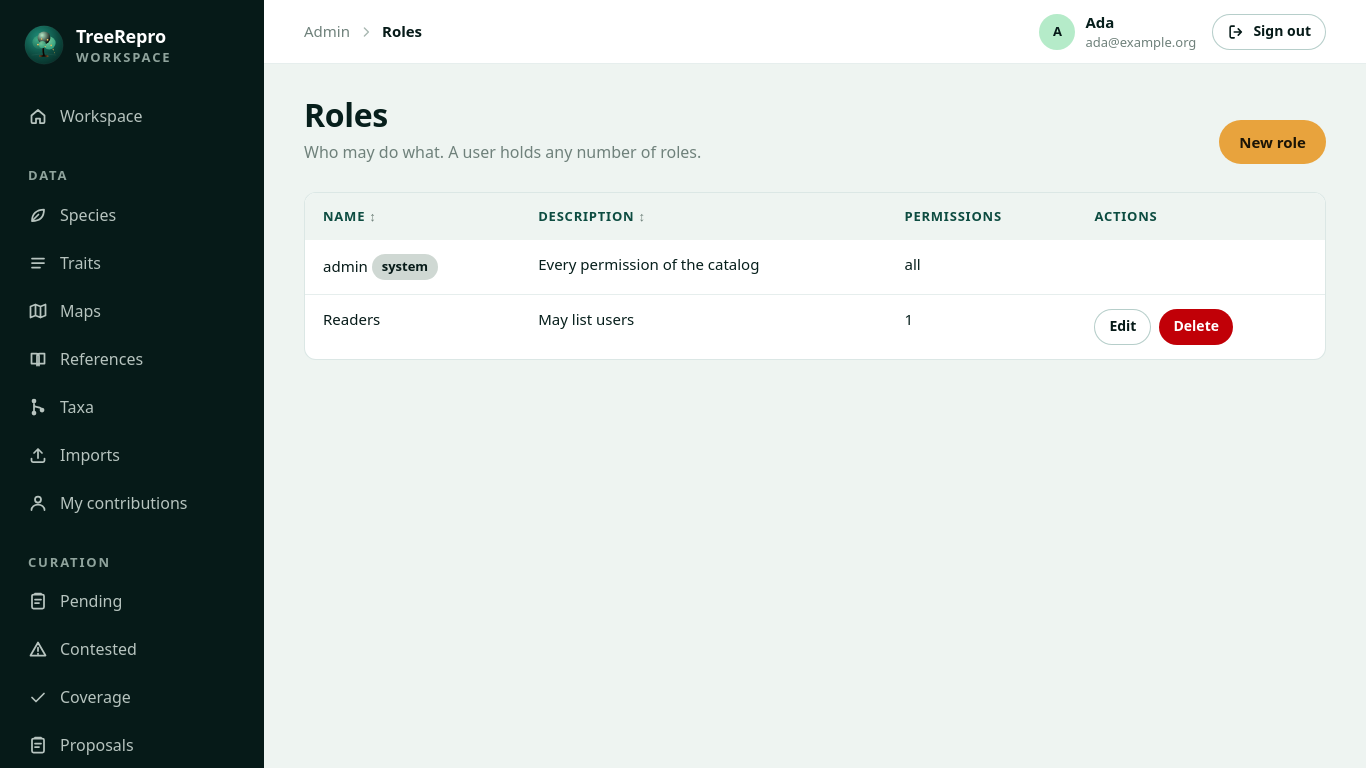
Test: RFC-13 R2, RFC-50 R10 RolesPage › RFC-31 R5 deletes after confirming; ROLE_IS_SYSTEM is mapped
expect the heading "Roles" is shown: met, box 304,93 -> 388,136
Click the button with aria-label "Delete Readers" at (1196, 327), box 1160,309 -> 1233,345
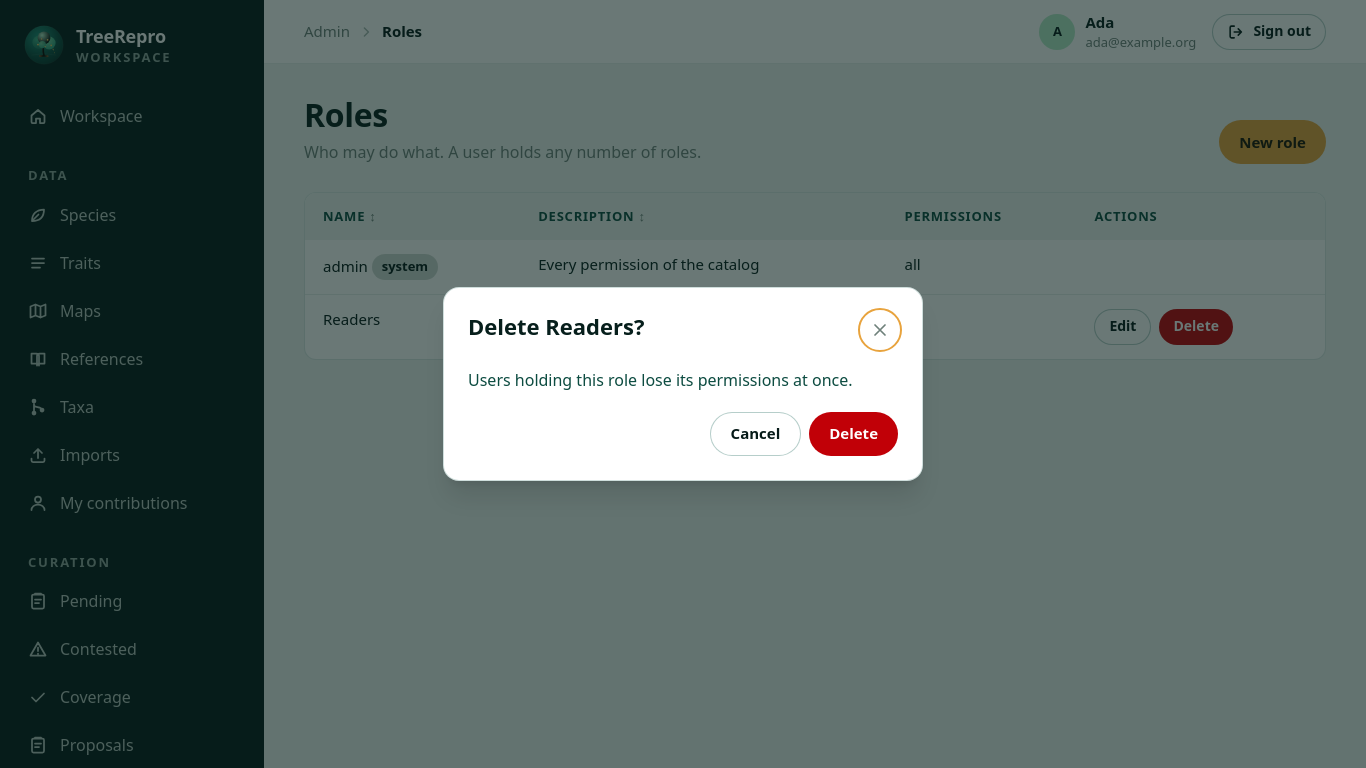
Click the button "Delete" at (854, 434), box 809,412 -> 898,456
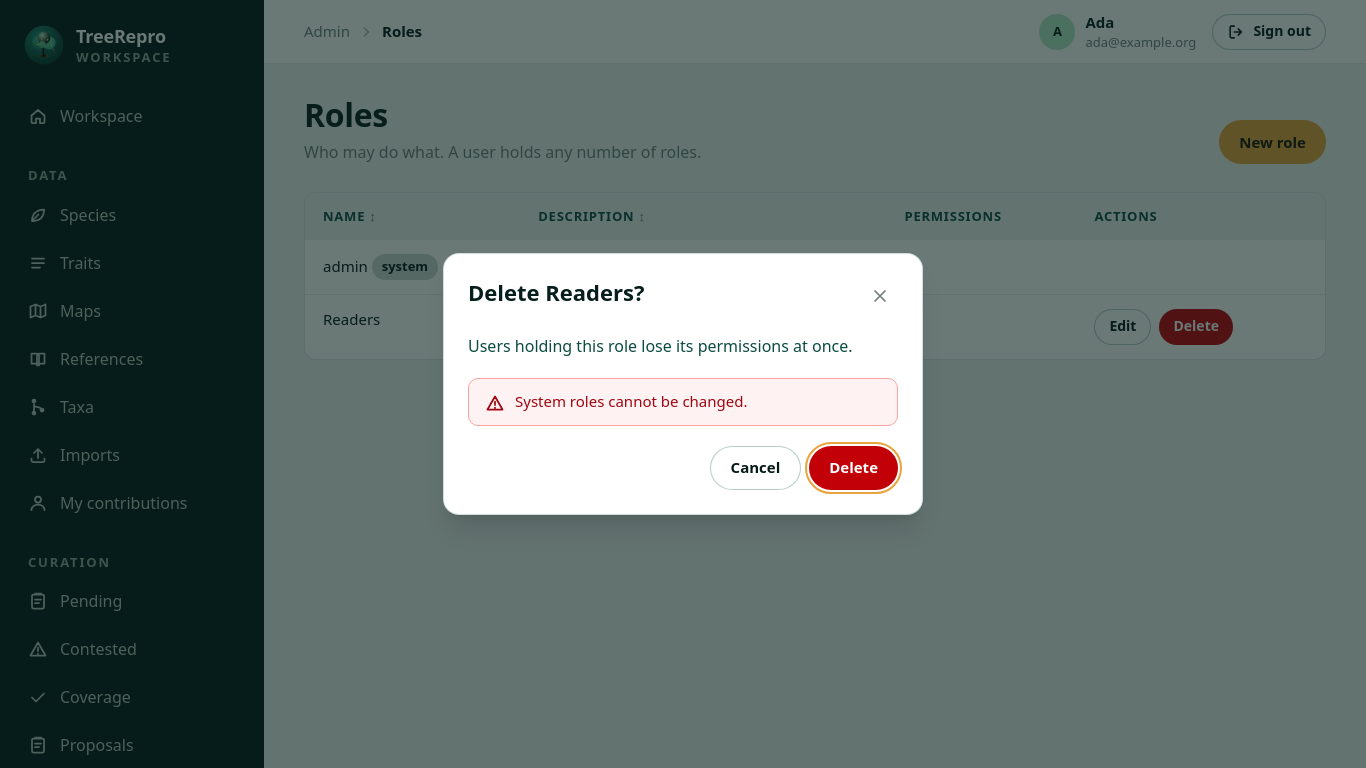
expect the message reads "System roles cannot be changed.": met, box 515,391 -> 748,411
Click the button "Delete" at (854, 468), box 809,446 -> 898,490
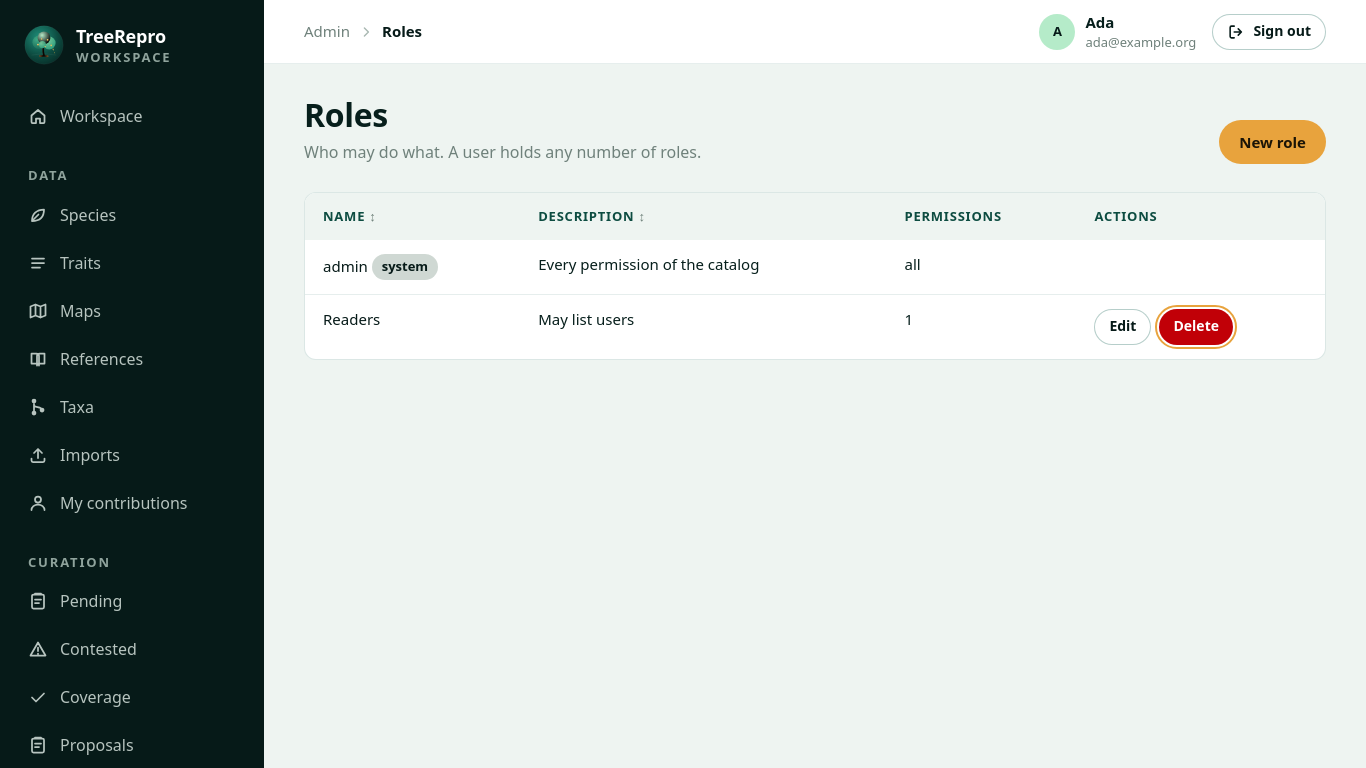
expect the dialog is gone: met
